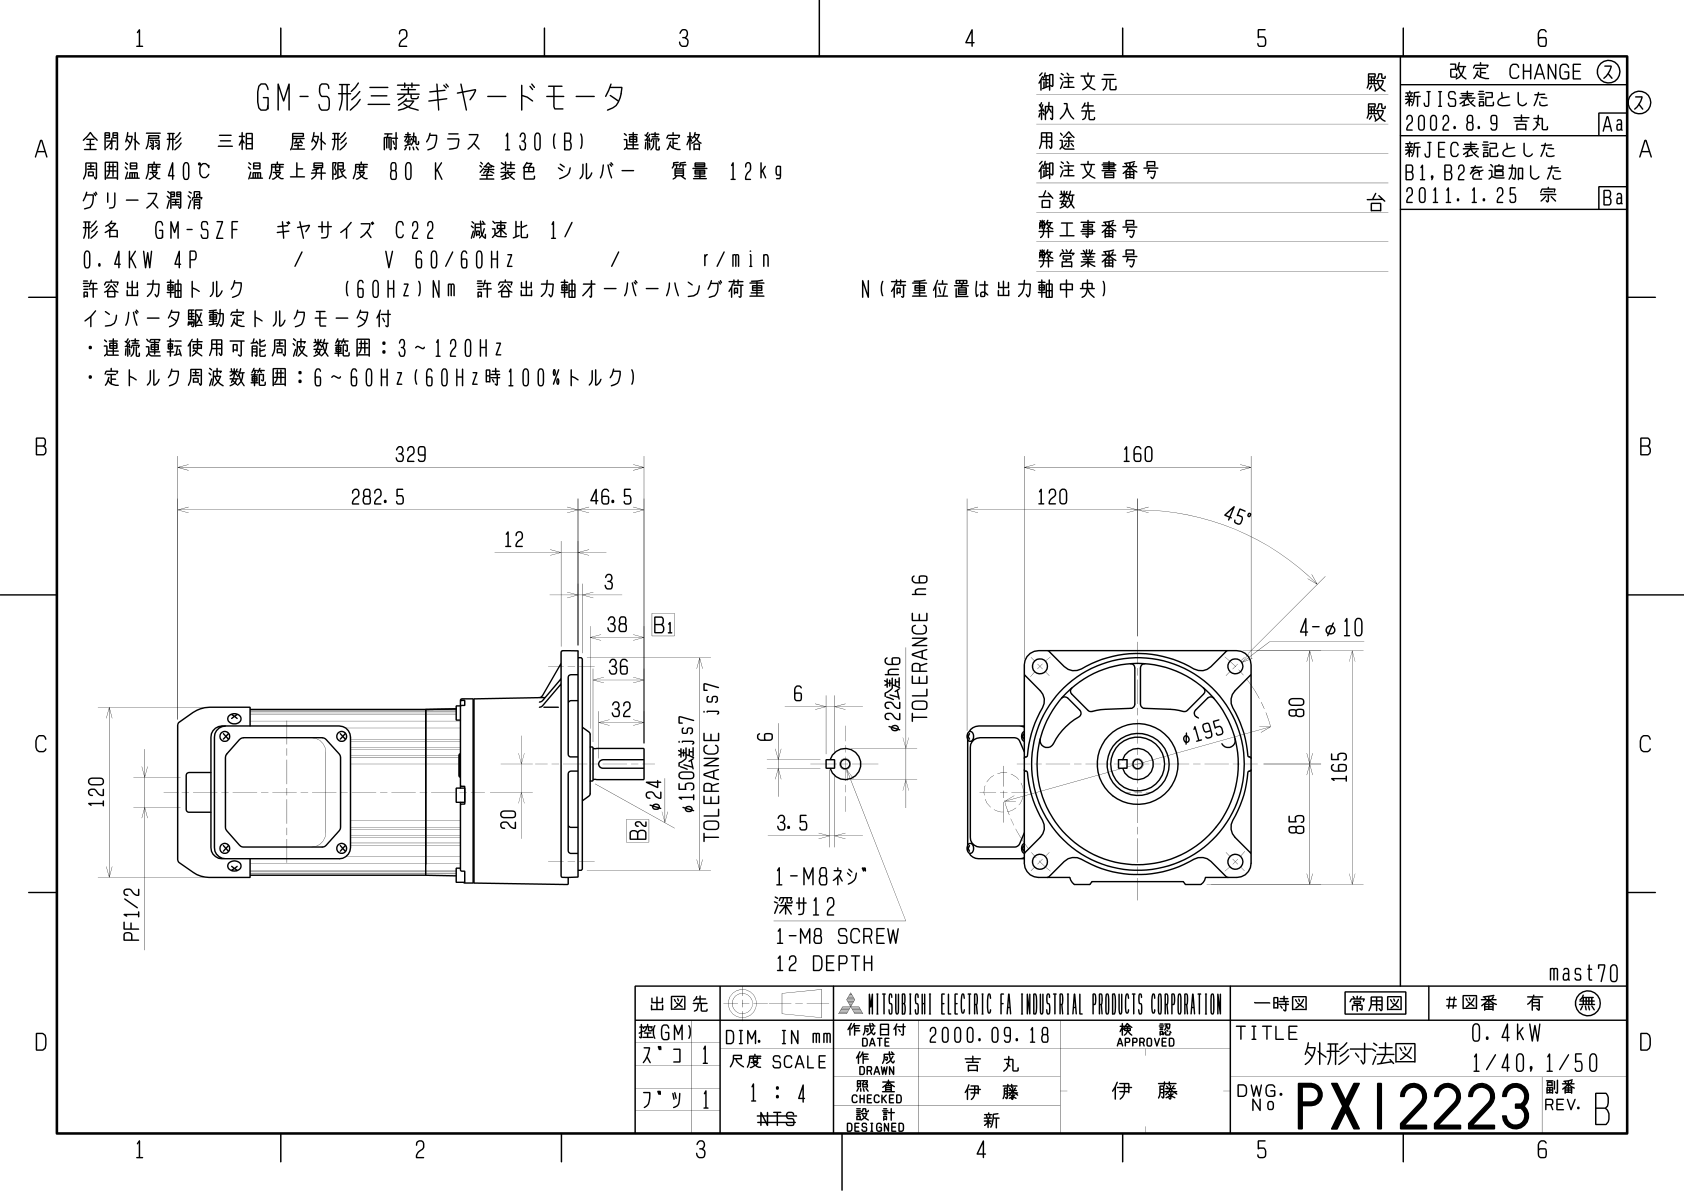GM_S_インバタ屋外＿三相_フランジ: (75, 410, 1381, 978)
